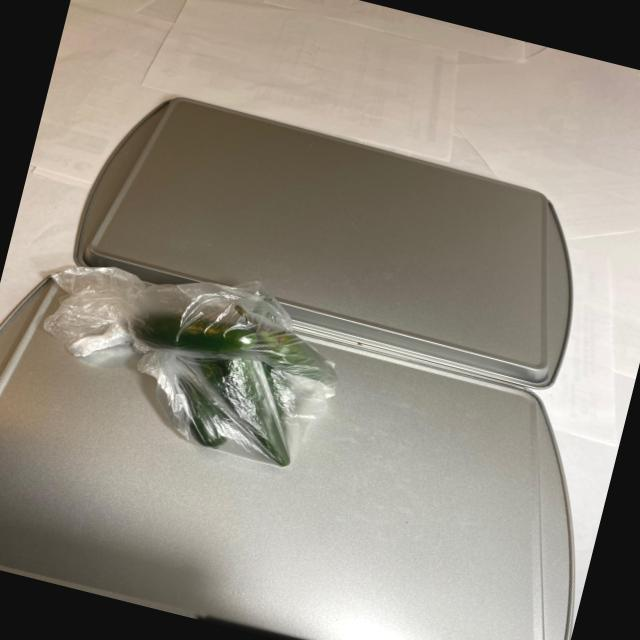chilli: (93, 265, 354, 485)
